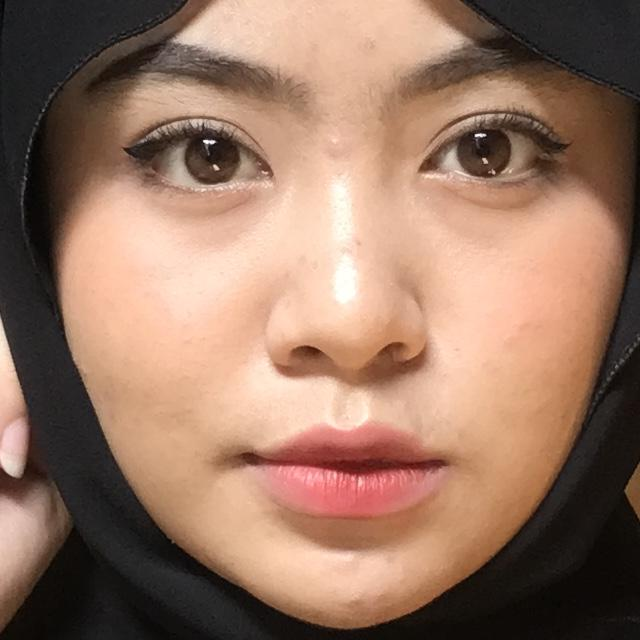ibu: (0, 166, 290, 640)
